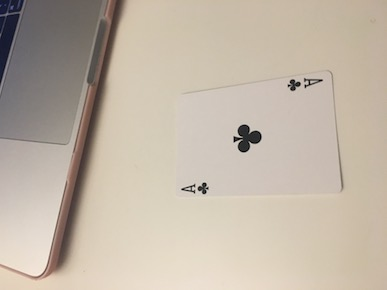AceOfClubs: (176, 67, 345, 199)
